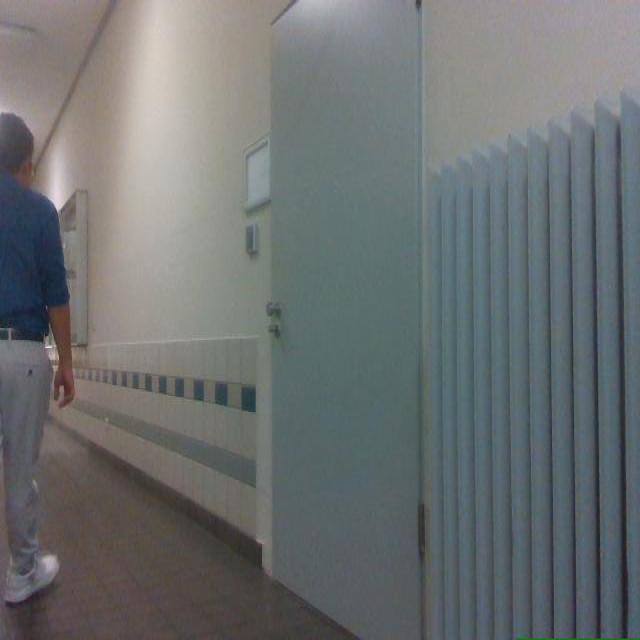humans: (0, 113, 74, 603)
